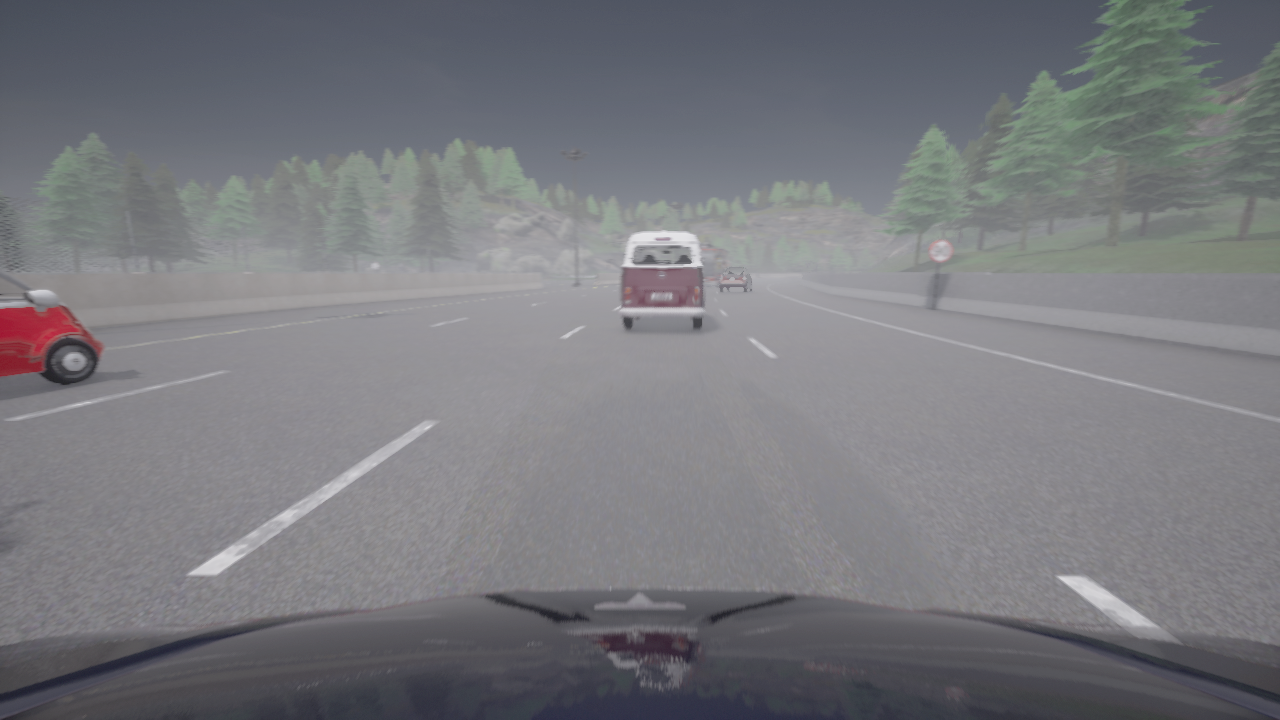cyclist: (0, 588, 1279, 719), (619, 232, 705, 329), (700, 243, 733, 286), (718, 266, 752, 293)
